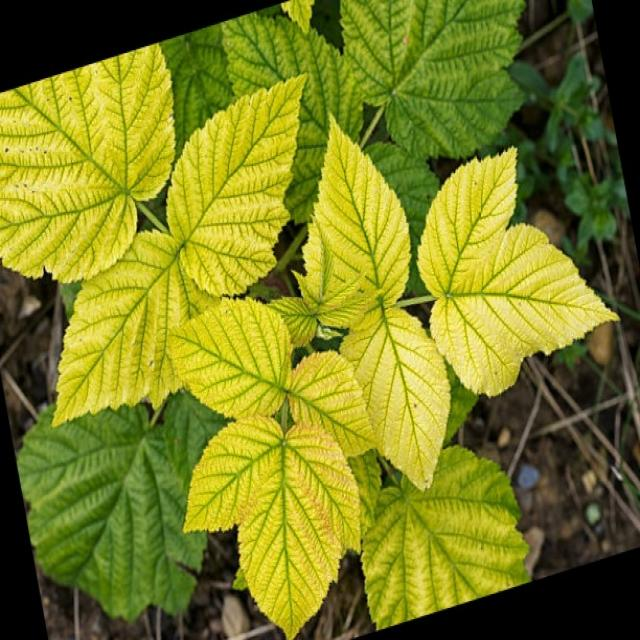Chlorosis: (20, 53, 640, 581)
